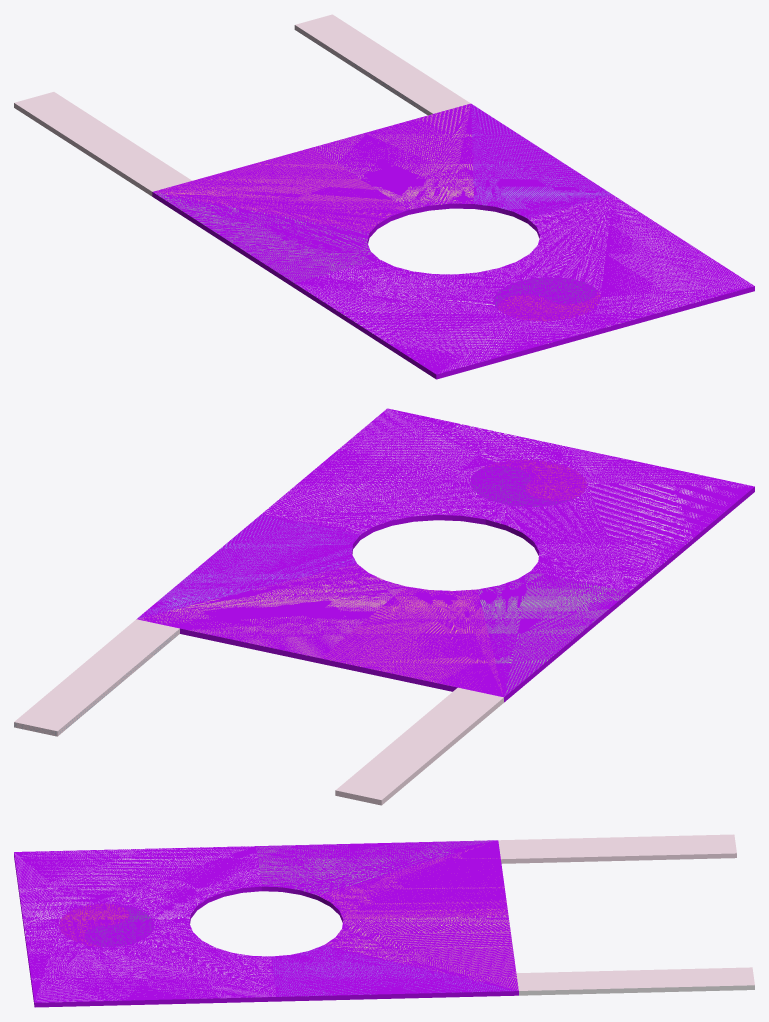
File: kite4.dae
The picture shows the model from 3 angles, top to bottom: view 1: azimuth 30°, elevation 25°; view 2: azimuth 150°, elevation 25°; view 3: azimuth 270°, elevation 25°; orthographic projection. The views are drawn at different scales.
Parts seen in each view (by area): view 1: Body.005, Body, Body.008, Body.006, Body.004, group_2, group_0.002, Body.001, Body.003, group_3, Body.002, group_0.001; view 2: Body.005, Body.008, Body, Body.004, Body.006, group_2, group_0.002, group_3, Body.003, Body.007, Body.001, Body.002 (+1 smaller); view 3: Body.005, Body.008, Body, Body.004, Body.006, group_2, group_0.002, Body.001, group_3, Body.003, group_0, Body.002.
Boxes of the visible parts, x1,y1,x2,y2 form: Body.005: (294, 195, 754, 374); Body: (153, 147, 407, 232); Body.008: (312, 103, 473, 209); Body.006: (153, 192, 379, 282); Body.004: (471, 103, 612, 218); group_2: (14, 92, 191, 196); group_0.002: (295, 14, 470, 113); Body.001: (152, 192, 754, 379); Body.003: (493, 277, 596, 308); group_3: (497, 289, 600, 321); Body.002: (367, 203, 539, 243); group_0.001: (294, 25, 432, 115); Body.005: (262, 408, 754, 591); Body.008: (137, 564, 405, 658); Body: (320, 586, 503, 697); Body.004: (137, 514, 359, 618); Body.006: (478, 571, 628, 696); group_2: (336, 687, 503, 804); group_0.002: (14, 619, 179, 731); group_3: (480, 459, 586, 500); Body.003: (470, 466, 576, 506); Body.007: (180, 628, 457, 691); Body.001: (504, 487, 754, 702); Body.002: (352, 515, 539, 555); Body.005: (14, 846, 276, 1002); Body.008: (324, 915, 518, 990); Body: (317, 840, 508, 919); Body.004: (271, 945, 517, 996); Body.006: (256, 840, 496, 895); group_2: (498, 834, 736, 863); group_0.002: (516, 967, 754, 990); Body.001: (14, 853, 518, 1007); group_3: (59, 903, 129, 946); Body.003: (84, 904, 154, 947); group_0: (519, 985, 754, 995); Body.002: (189, 886, 343, 923).
Size of the model in its own units: 0.6599 by 1.23 by 0.00852.
